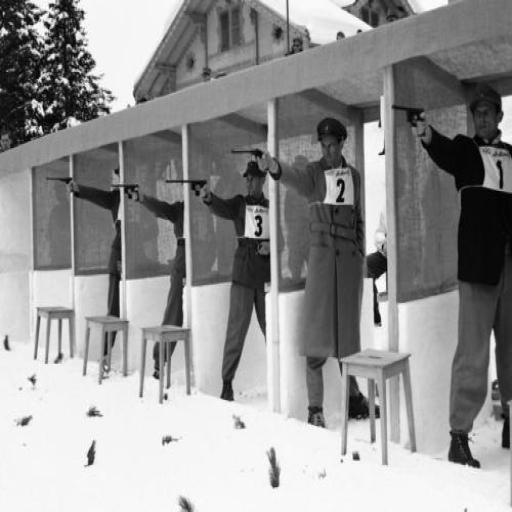shooting: (253, 115, 382, 432), (409, 82, 511, 472), (41, 154, 152, 372), (196, 155, 282, 405), (126, 181, 189, 385)
